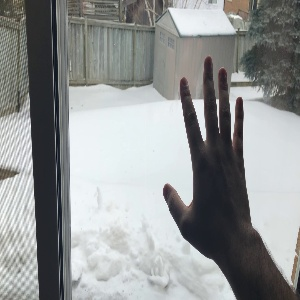hand: (164, 58, 251, 234)
